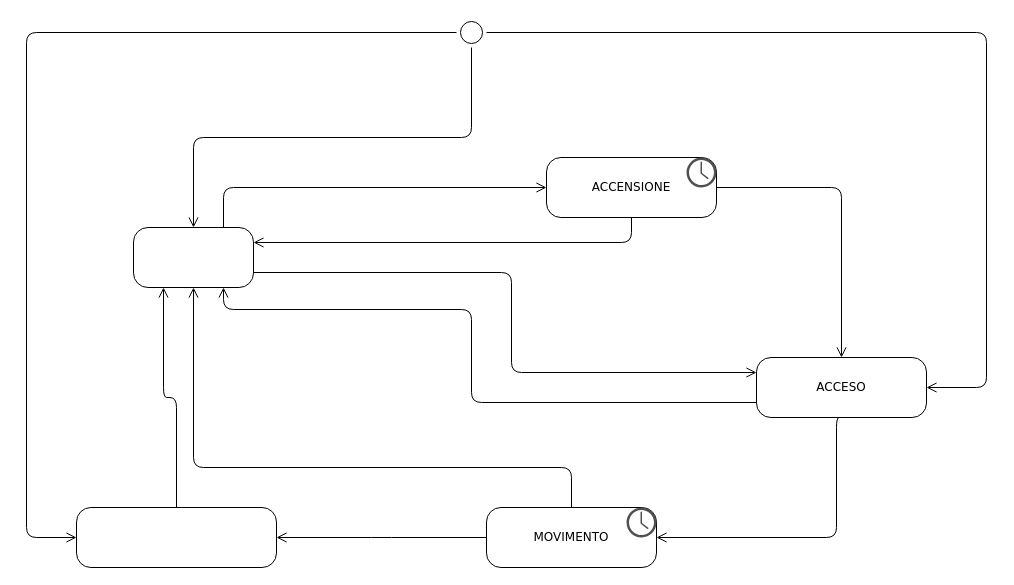
Image size: 1014x585. Some labels were removed from this diagram. Each missing label, with the centre of its shape:
ALLARME: the point at 176,537
SPENTO: the point at 193,257
